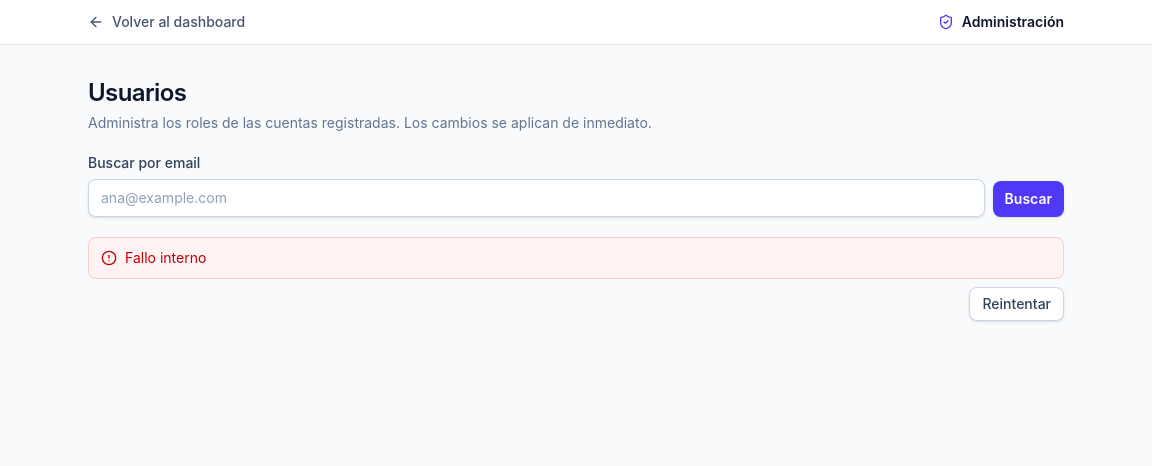
AdminUsersPage › muestra el error y permite reintentar
This screenshot has width=1152, height=466.
expect the text "Fallo interno" is shown: met, box [125,248,206,268]
Click the button "Reintentar": point(1017, 304) [970,287,1064,321]
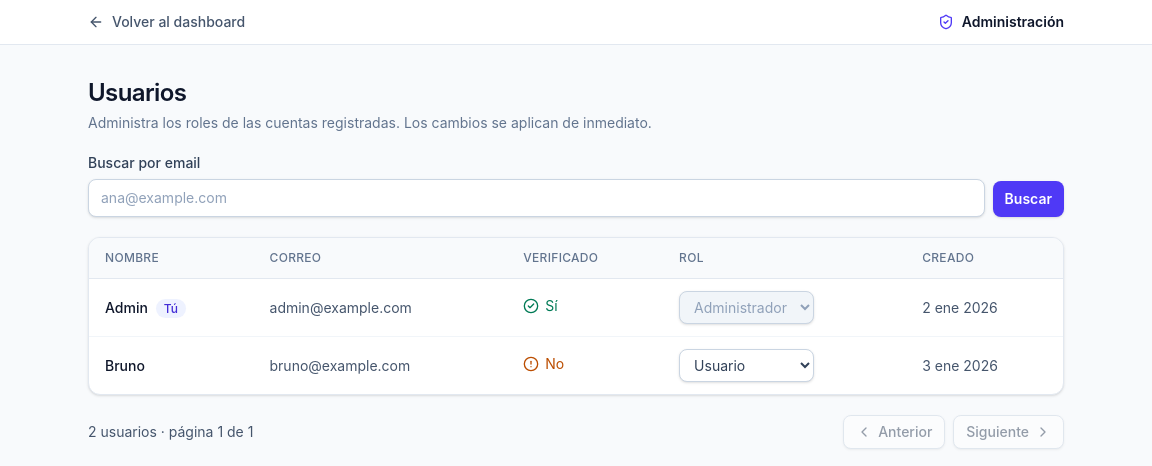
expect the text "bruno@example.com" is shown: met, box [254,336,507,394]
